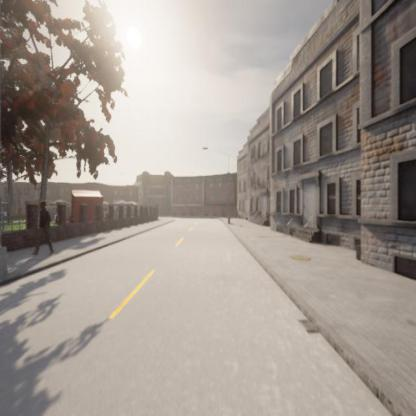person: (32, 203, 54, 257)
